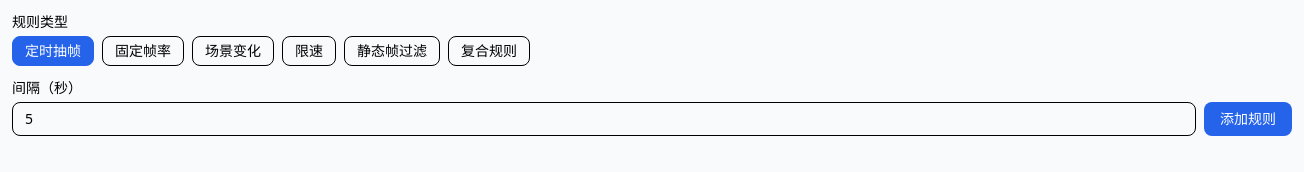
Test: RuleEditor › switches param label when type changes
Click the button "固定帧率": [143, 51] box [102,36,184,66]
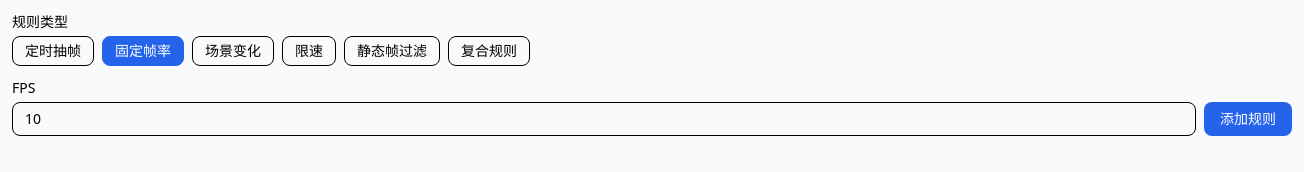
Check: the text "FPS" is shown, box [12,78,35,97]
Check: the number field showing "10" is shown, box [12,102,1196,136]
